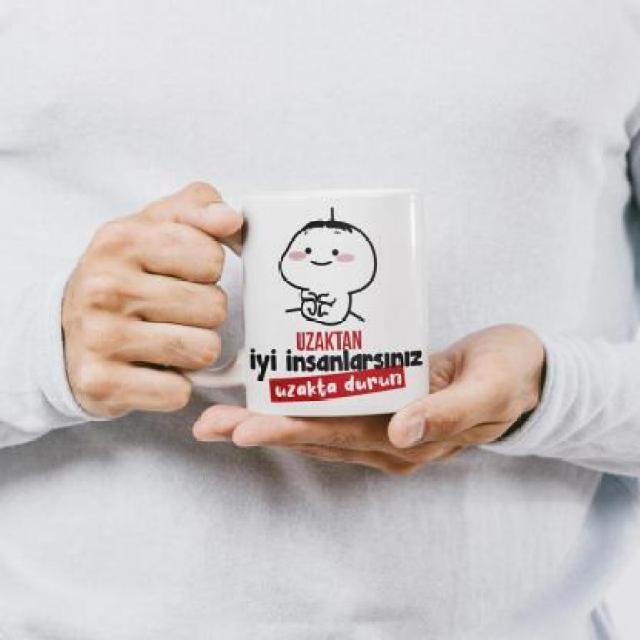taza: (165, 182, 431, 424)
